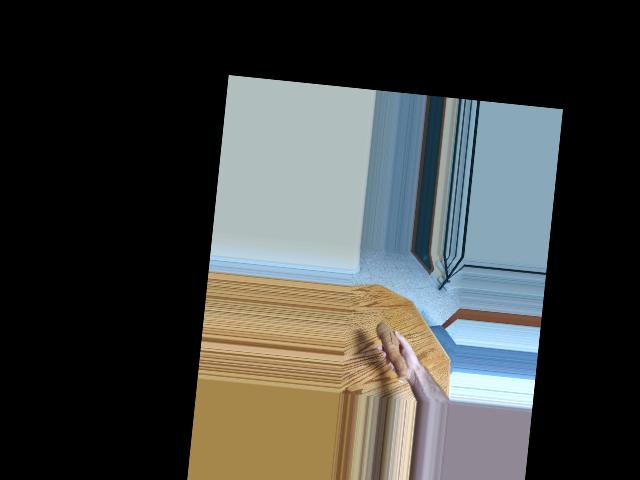sweet_potato: (370, 319, 416, 384)
